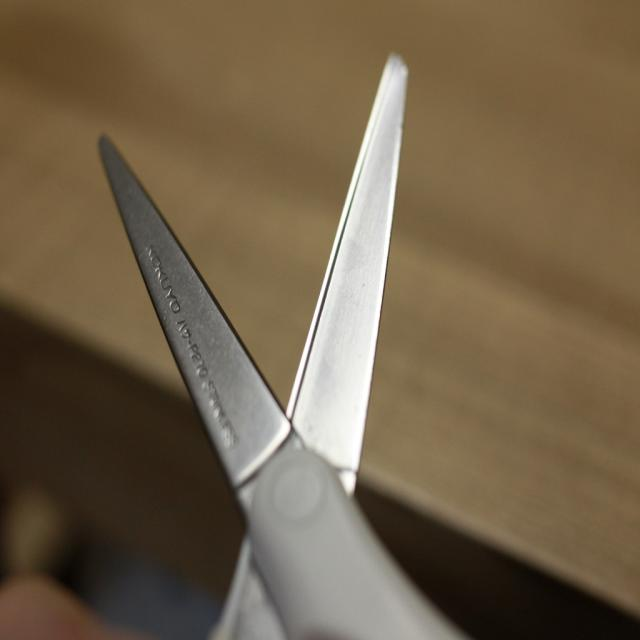scissors: (97, 51, 474, 638)
